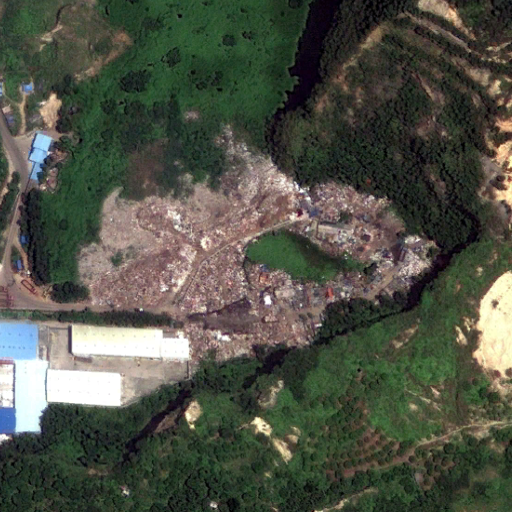msw: (81, 153, 435, 359)
